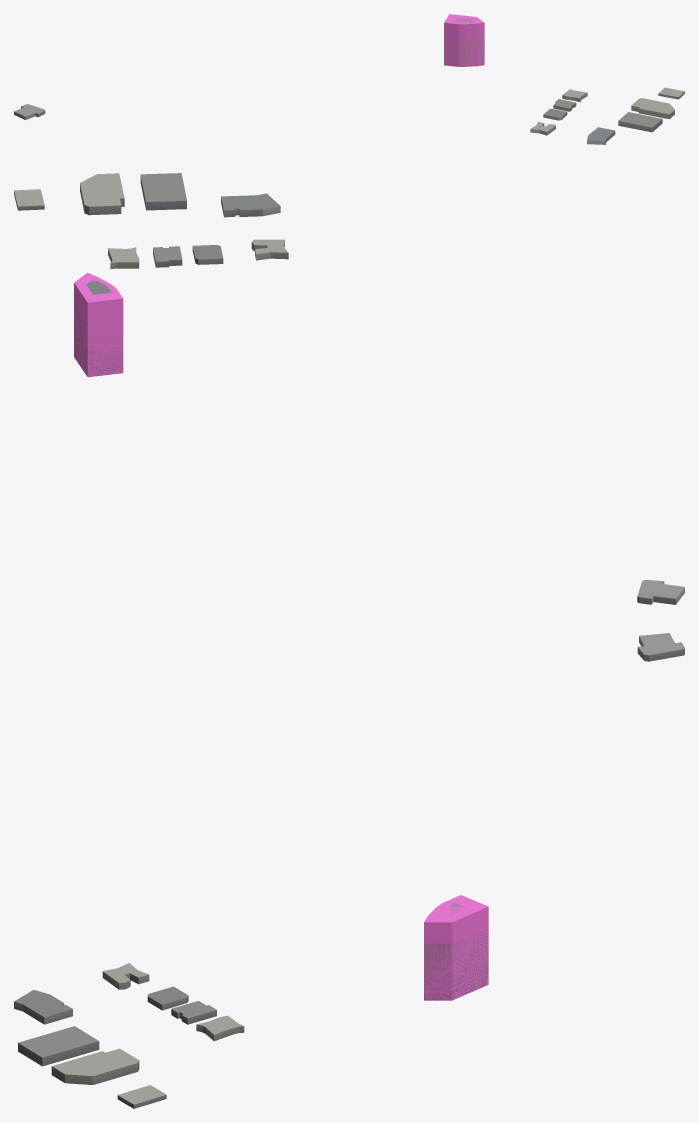
File: bld_7_0.fbx
3 renders of one model, top to bottom at view 1: azimuth 30°, elevation 25°; view 2: azimuth 150°, elevation 25°; view 3: azimuth 270°, elevation 25°, orthographic. The views are drawn at different scales.
Visible parts, largest first — view 1: bld_7_0_LOD0, bld_7_0_COL; view 2: bld_7_0_LOD0, bld_7_0_COL; view 3: bld_7_0_LOD0, bld_7_0_COL.
Boxes of the visible parts, x1,y1,x2,y2 form: bld_7_0_LOD0: (14, 18, 684, 144); bld_7_0_COL: (444, 14, 484, 66); bld_7_0_LOD0: (14, 173, 684, 604); bld_7_0_COL: (74, 273, 123, 377); bld_7_0_LOD0: (14, 633, 684, 1108); bld_7_0_COL: (424, 895, 488, 1000).
Size of what is drawn, in the model's own units: 1531 by 119 by 925.
